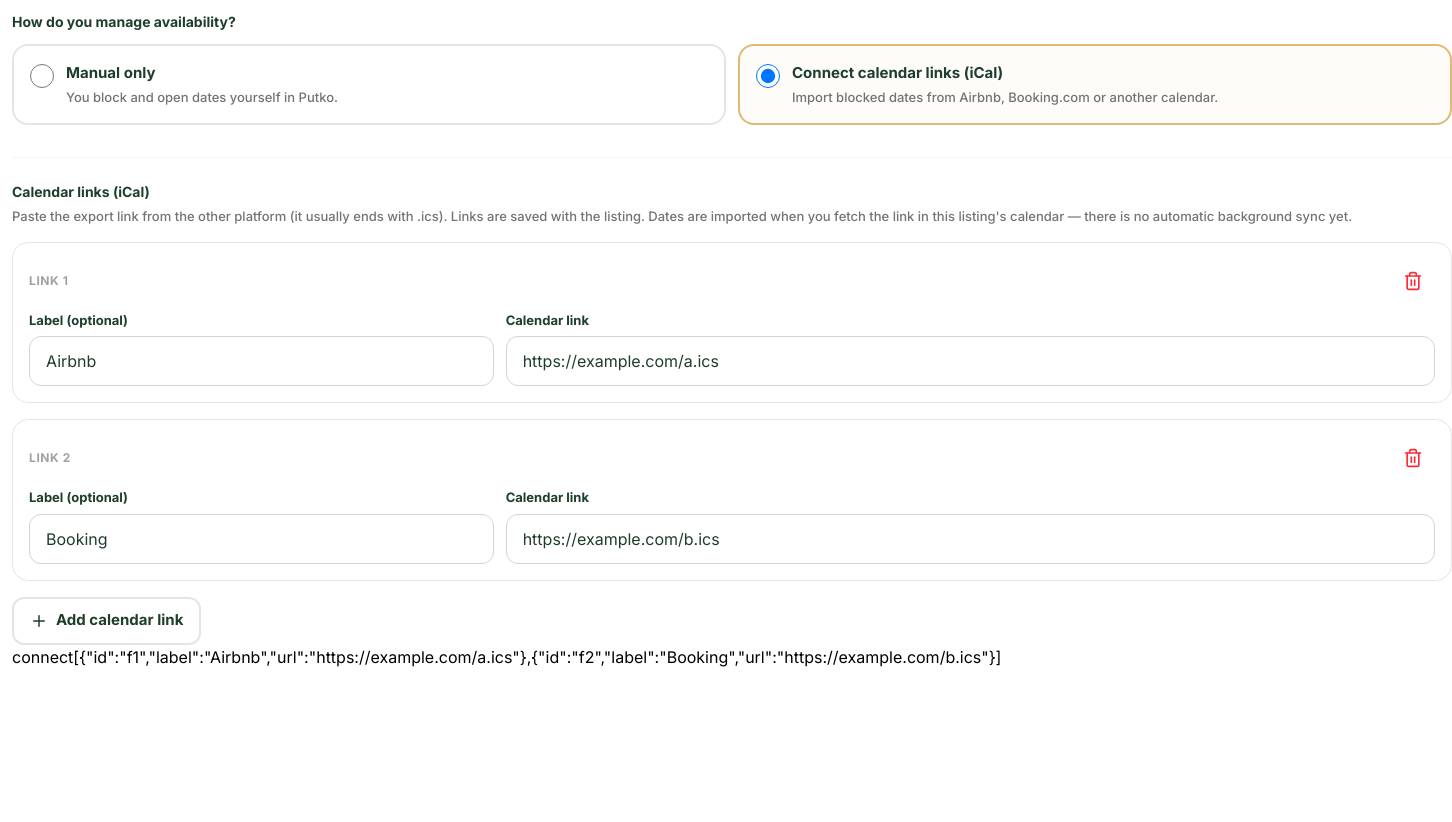
Scenario: Editor step 8 — manual only vs connected links › asks before pausing saved links and keeps them when the host declines
Click the radio button labelled "Manual only You block and open dates yourself in Putko." at x=42, y=76, box x1=30 y1=64 x2=54 y2=88
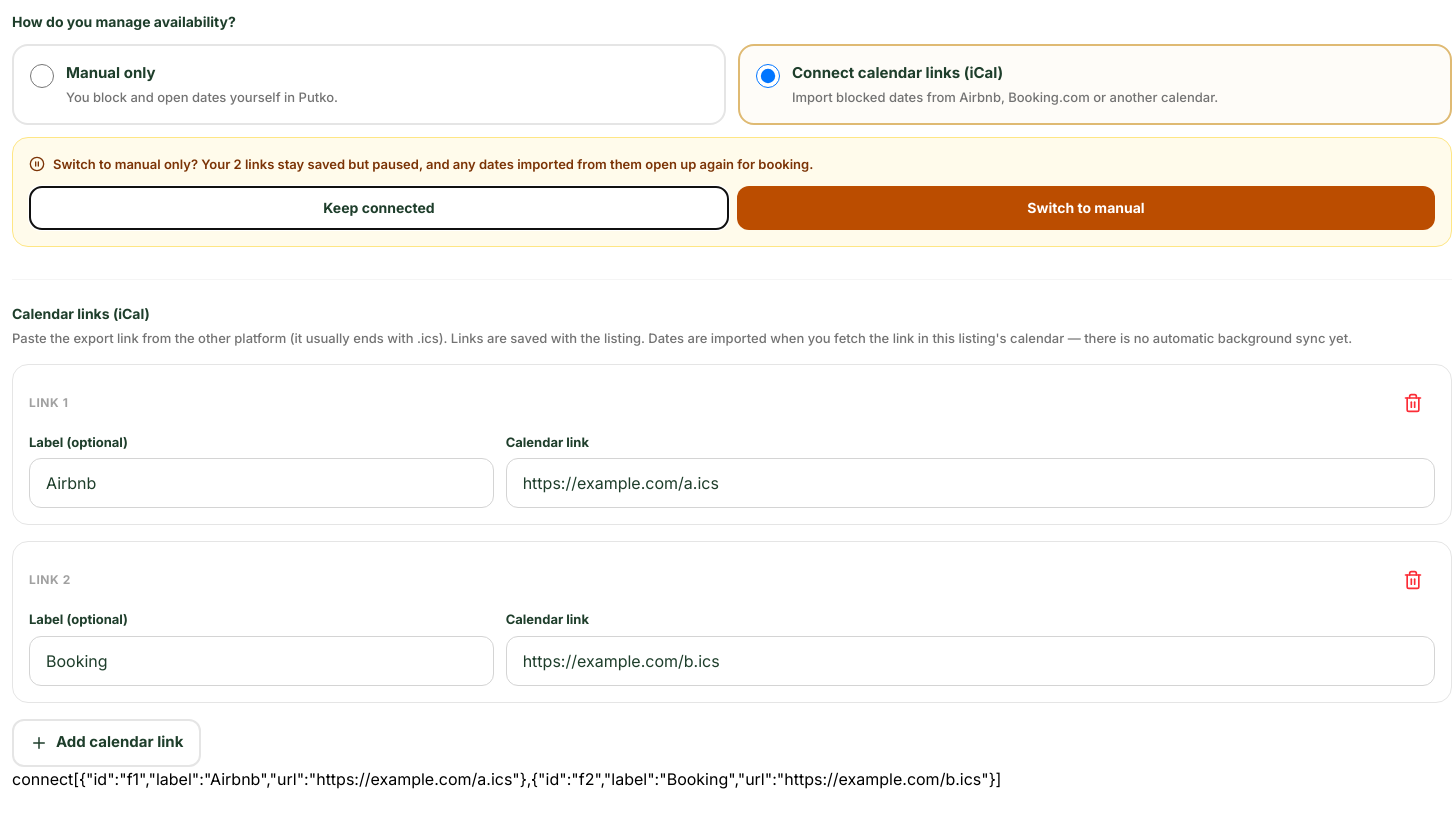
Check: the text with test id "choice" reads "connect", box x1=12 y1=768 x2=73 y2=788
Check: the message shows "2 links stay saved but paused", box x1=53 y1=156 x2=813 y2=172
Click the button "Keep connected" at x=379, y=208, box x1=29 y1=186 x2=729 y2=230
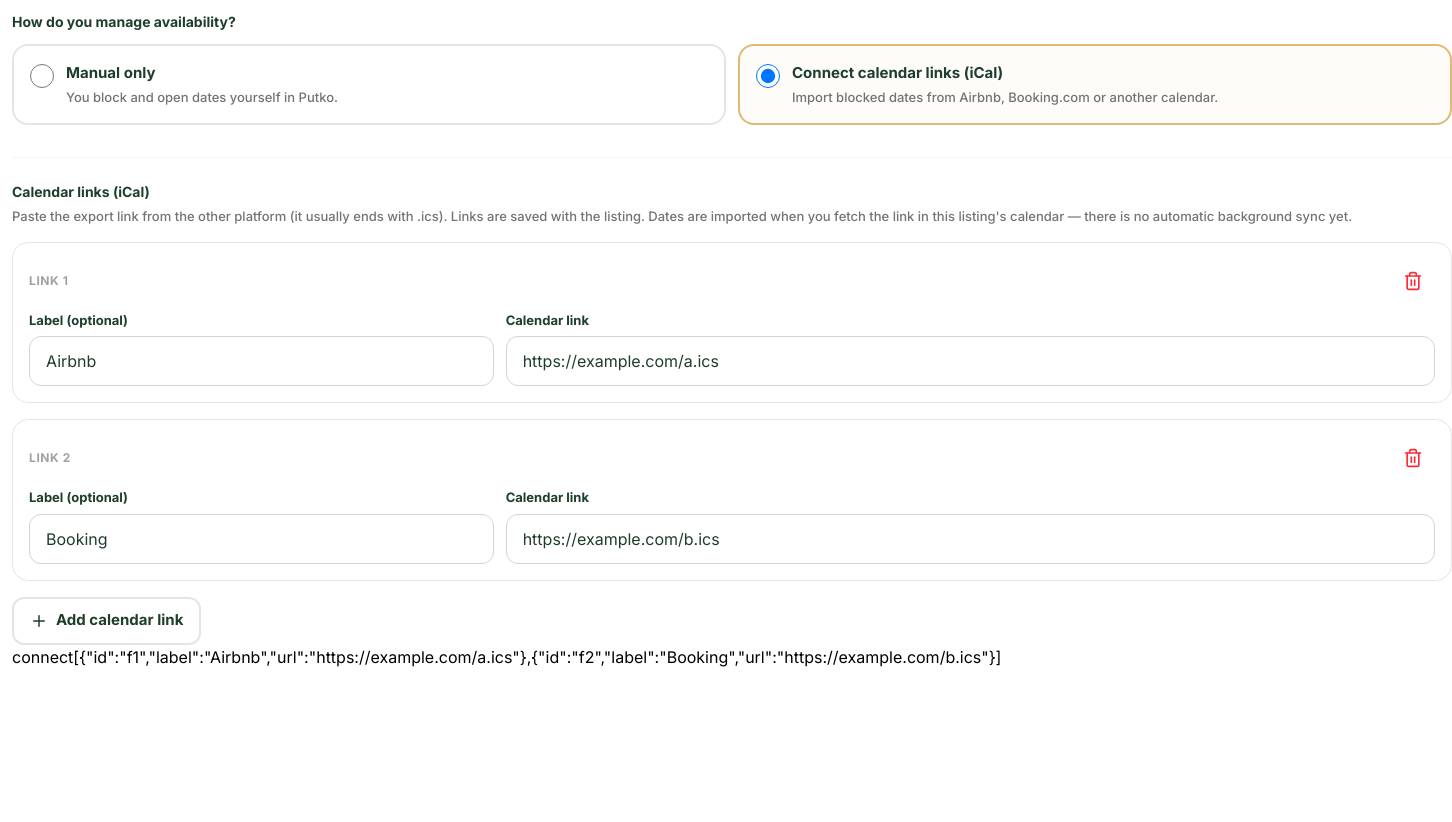
Check: the text with test id "choice" reads "connect", box x1=12 y1=646 x2=73 y2=666
Check: the message is gone
